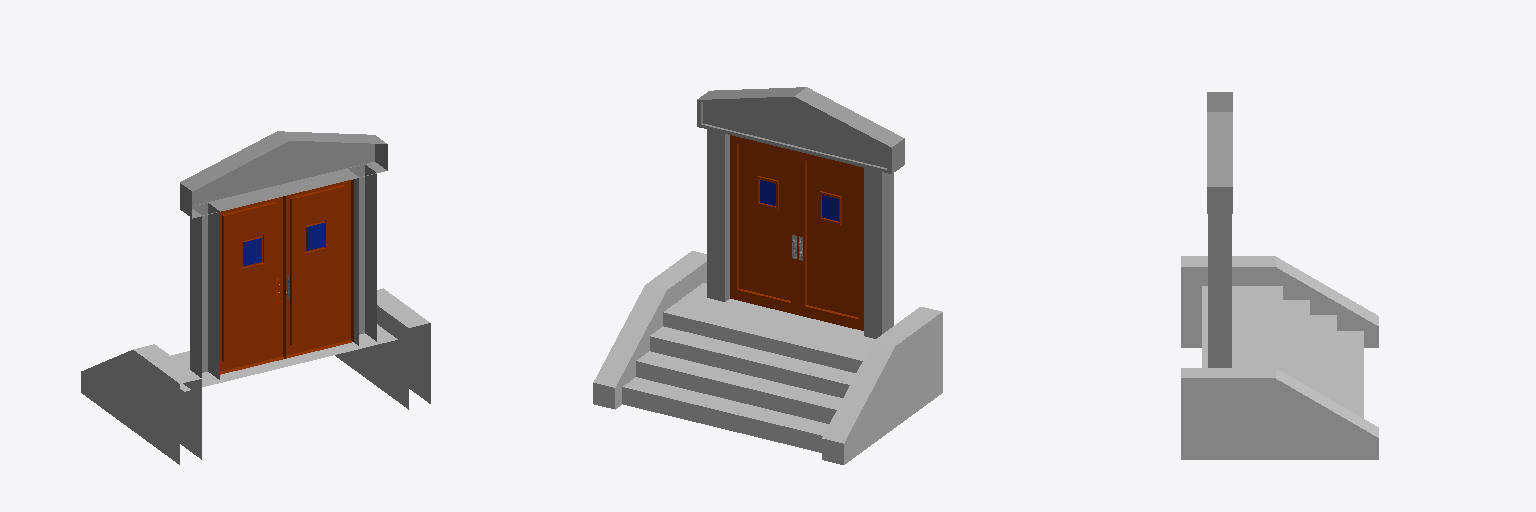
3 views of the same model, side by side, from view 1: azimuth 30°, elevation 25°; view 2: azimuth 150°, elevation 25°; view 3: azimuth 270°, elevation 25° (orthographic).
Visible parts, largest first — view 1: porta_Plane.006, Double_staircase_door_Plane.005, escada_Plane.004; view 2: escada_Plane.004, porta_Plane.006, Double_staircase_door_Plane.005; view 3: escada_Plane.004, Double_staircase_door_Plane.005.
Part boxes in pixels (x1,y1,x2,y2): porta_Plane.006: (220, 179, 353, 374); Double_staircase_door_Plane.005: (180, 131, 387, 379); escada_Plane.004: (81, 288, 430, 464); escada_Plane.004: (593, 251, 942, 464); porta_Plane.006: (730, 135, 863, 330); Double_staircase_door_Plane.005: (697, 87, 904, 338); escada_Plane.004: (1181, 256, 1378, 459); Double_staircase_door_Plane.005: (1207, 92, 1232, 367).
Size of the model in its own units: 3.56 by 3.88 by 2.43.
7 materials, 1 textured.